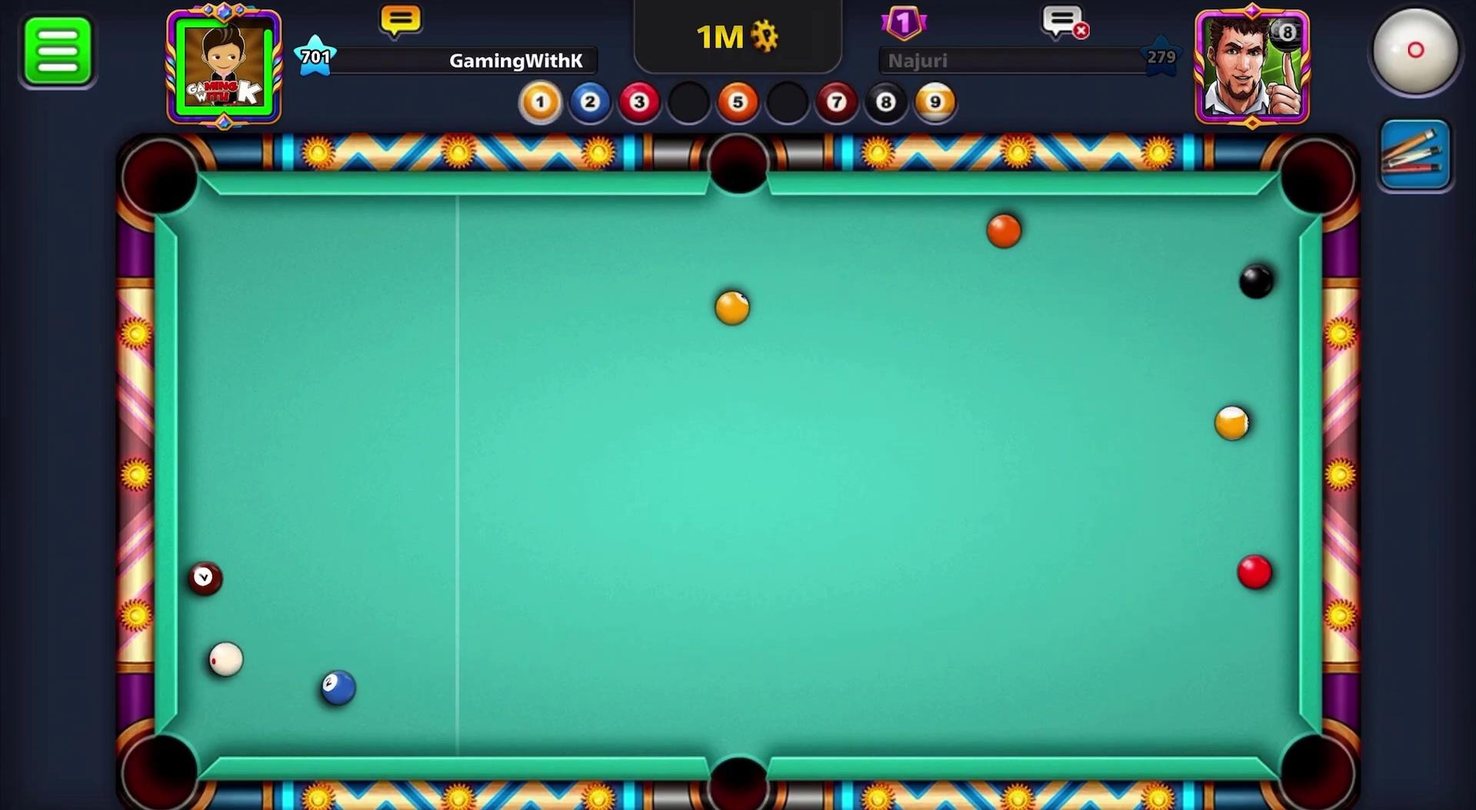Ball: (1211, 396, 1254, 449), (710, 282, 754, 331), (981, 209, 1025, 253), (1234, 549, 1277, 593), (1237, 257, 1278, 303), (185, 556, 223, 596), (316, 669, 356, 705)
Hole: (108, 128, 213, 231), (112, 712, 216, 809), (1267, 131, 1365, 233), (1265, 717, 1364, 809), (691, 125, 787, 209), (688, 738, 785, 809)
Play_Area: (178, 194, 1306, 759)
Spin: (1346, 0, 1475, 114)
White: (202, 639, 245, 679)
